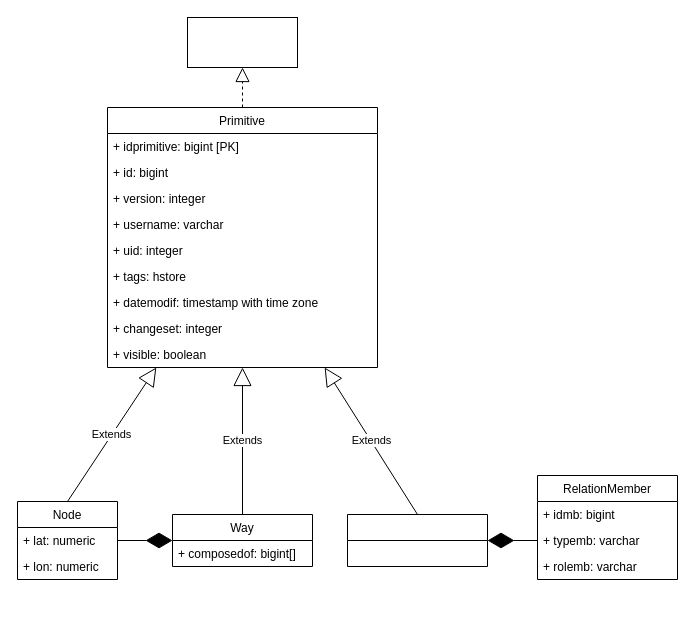
This 695x639 diagram has some shape labels left out. The centre of each missing label's shape, as x and y in pixels:
Relation: [417,540]
«interface» IsRelationMember: [242,42]
